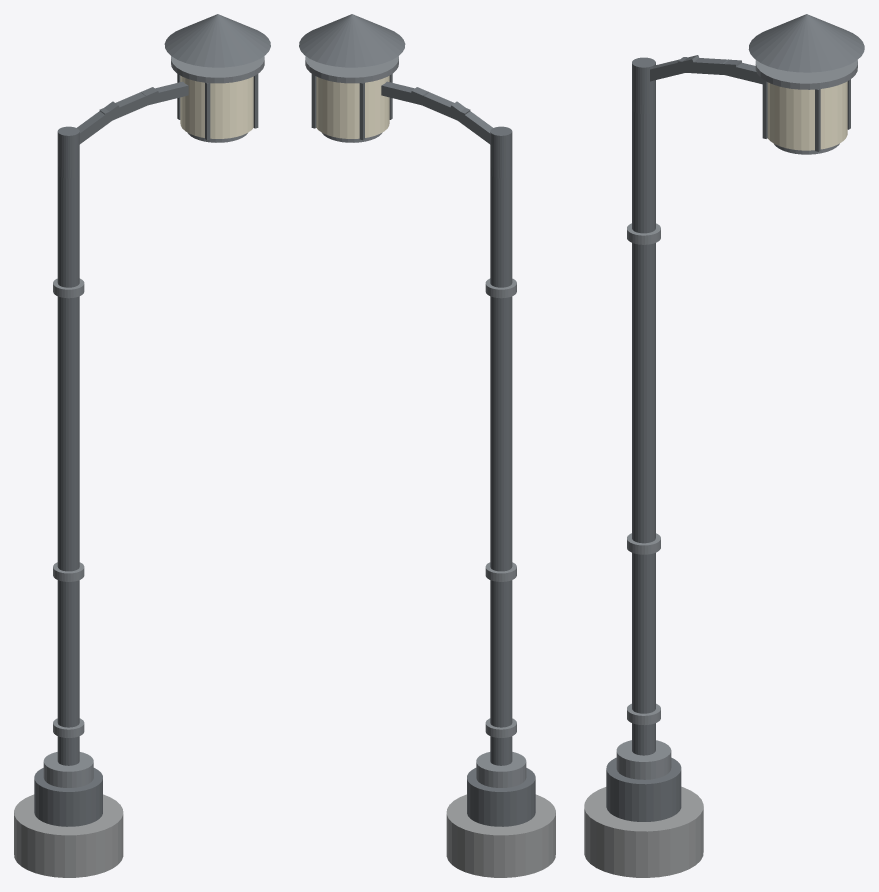
The model's file is street_lamp.glb.
The picture shows the model from 3 angles, left to right: view 1: azimuth 30°, elevation 25°; view 2: azimuth 150°, elevation 25°; view 3: azimuth 330°, elevation 25°; orthographic projection. The views are drawn at different scales.
Parts seen in each view (by area): view 1: part_3, part_0, part_11, part_13, part_1, part_12, part_2, part_7, part_9, part_8, part_10; view 2: part_3, part_0, part_11, part_13, part_1, part_12, part_2, part_7, part_9, part_8, part_10; view 3: part_3, part_0, part_11, part_13, part_1, part_12, part_2, part_7, part_9, part_8.
Boxes of the visible parts, box(x1,y1,x2,y2) form: part_3: box(57, 167, 79, 765); part_0: box(14, 794, 123, 877); part_11: box(164, 14, 270, 67); part_13: box(180, 75, 253, 138); part_1: box(34, 768, 102, 826); part_12: box(171, 56, 264, 83); part_2: box(43, 752, 93, 787); part_7: box(57, 126, 79, 178); part_9: box(99, 87, 159, 122); part_8: box(77, 101, 122, 144); part_10: box(141, 81, 188, 104); part_3: box(490, 167, 512, 765); part_0: box(446, 794, 555, 877); part_11: box(299, 14, 405, 67); part_13: box(316, 75, 389, 138); part_1: box(467, 768, 535, 826); part_12: box(305, 56, 398, 83); part_2: box(476, 752, 526, 787); part_7: box(490, 126, 512, 178); part_9: box(410, 87, 470, 122); part_8: box(448, 101, 492, 144); part_10: box(381, 81, 428, 104); part_3: box(632, 100, 655, 755); part_0: box(584, 786, 703, 877); part_11: box(748, 14, 864, 72); part_13: box(767, 81, 847, 150); part_1: box(606, 757, 681, 821); part_12: box(755, 60, 857, 89); part_2: box(616, 740, 671, 779); part_7: box(632, 57, 655, 113); part_9: box(677, 57, 741, 75); part_8: box(650, 55, 699, 81).
Size of the model in its own units: 1.79 by 5.67 by 0.7.
